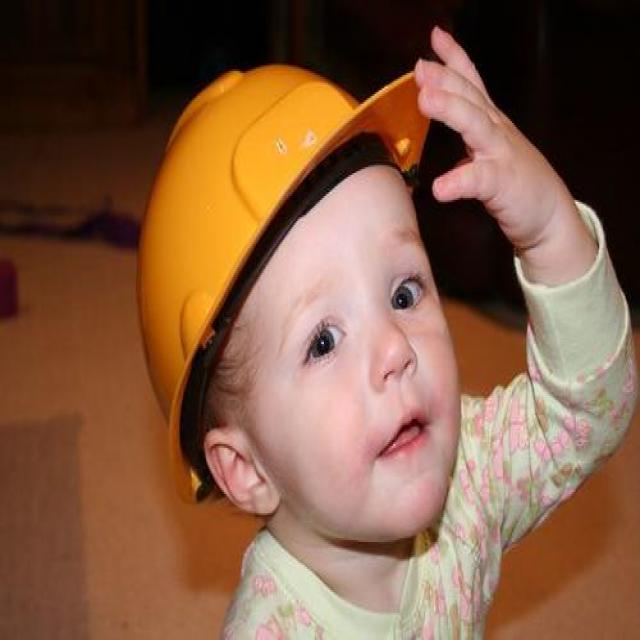Safety-Helmet: (128, 54, 410, 421)
